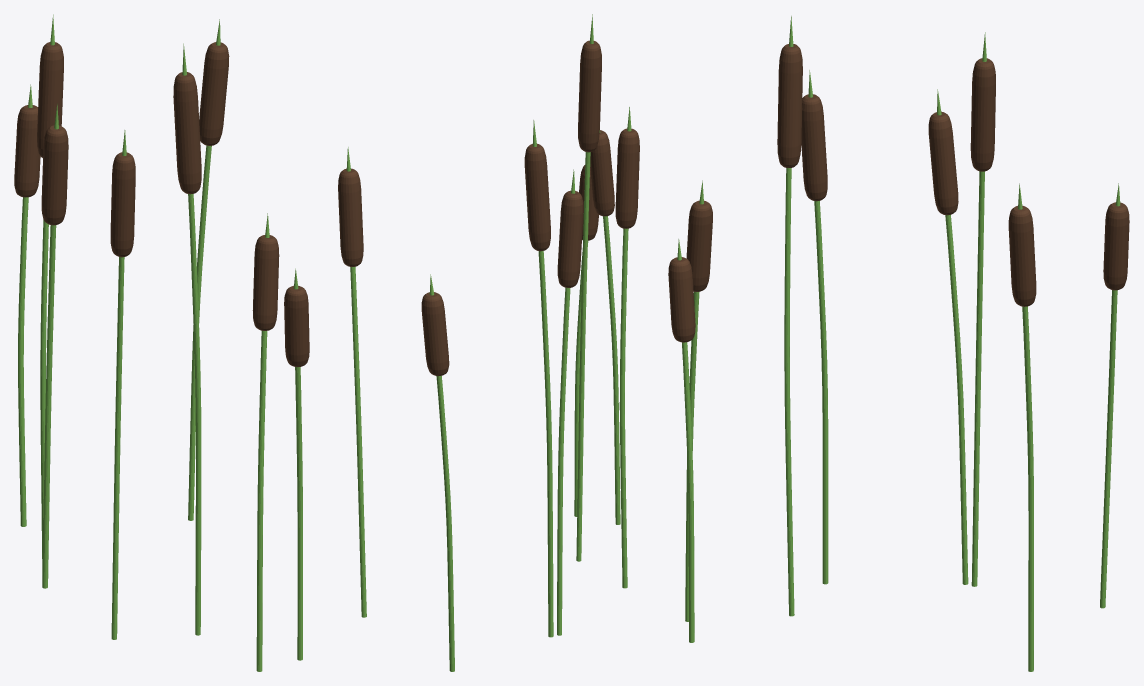
Rendered from Reed 2.fbx.
3 views of the same model, side by side, from view 1: azimuth 30°, elevation 25°; view 2: azimuth 150°, elevation 25°; view 3: azimuth 270°, elevation 25° (orthographic). The views are drawn at different scales.
Parts seen in each view (by area): view 1: Reed 2; view 2: Reed 2; view 3: Reed 2.
Part boxes in pixels (box(x1,y1,x2,y2)): Reed 2: box(14, 14, 309, 671); Reed 2: box(338, 14, 639, 671); Reed 2: box(668, 16, 1129, 671).
Bounding box in the file's own units: 1.61 × 4.13 × 2.9.
